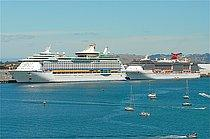Ship: (12, 42, 131, 89)
